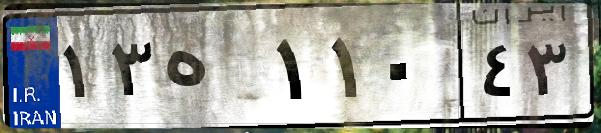0: (385, 28, 445, 110)
1: (270, 28, 330, 110), (330, 28, 385, 110), (57, 26, 110, 100)
3: (525, 38, 570, 115), (110, 28, 158, 98)
4: (475, 38, 525, 113)
ه: (158, 20, 270, 120)
